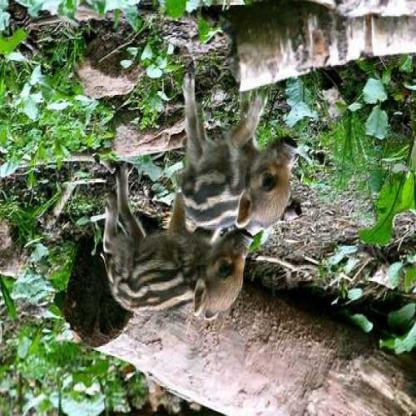boar: (67, 185, 260, 342), (166, 102, 307, 239)
